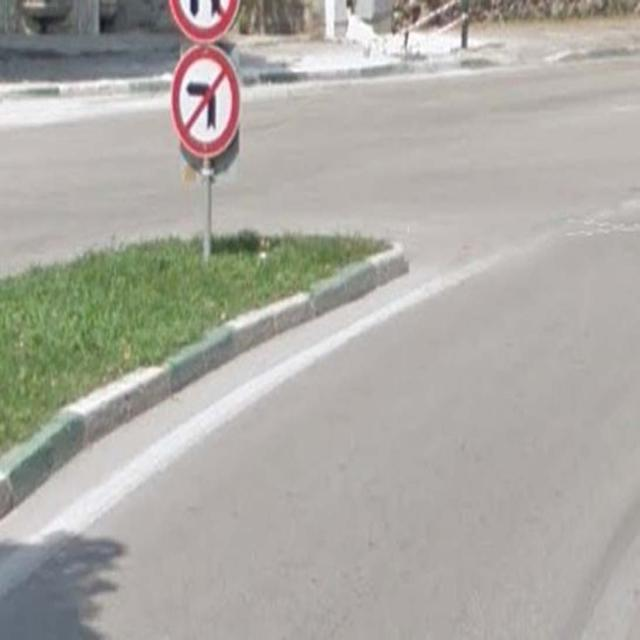soladonulmez: (171, 44, 241, 156)
